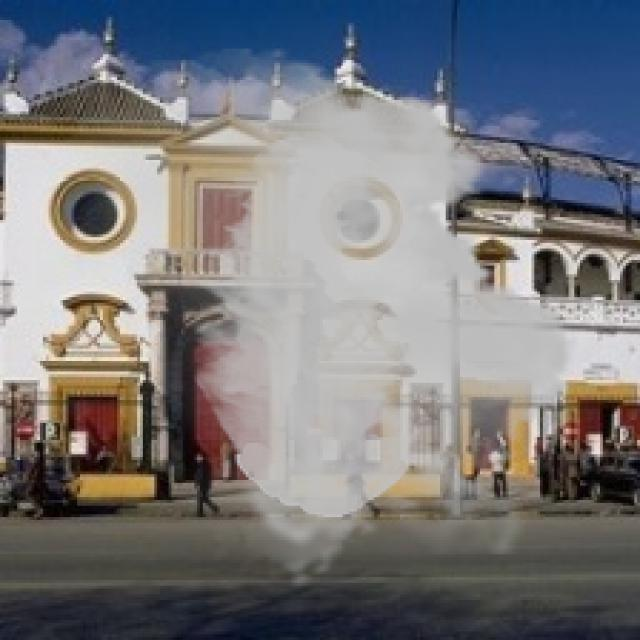Smoke: (37, 49, 594, 588)
